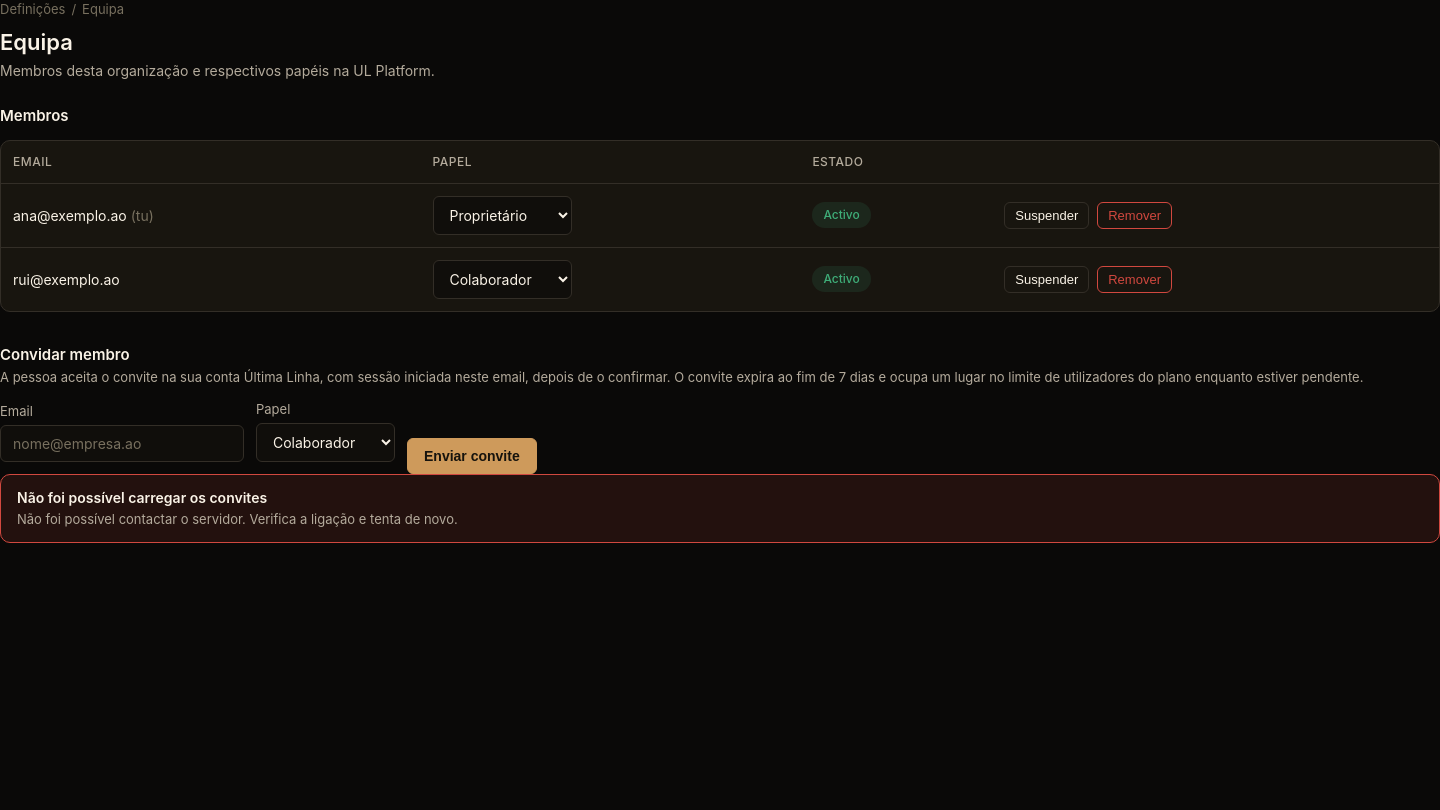
Team › the Platform's last-owner protection is shown inside the dialog
The image size is (1440, 810).
Expected: the text "ana@exemplo.ao" is shown, [13,207,127,224]
What coordinates should you click on to do the following:
click the button "Remover" in the row of "ana@exemplo.ao"
I would click on:
 (1135, 215)
Its box is [1097,202,1172,229].
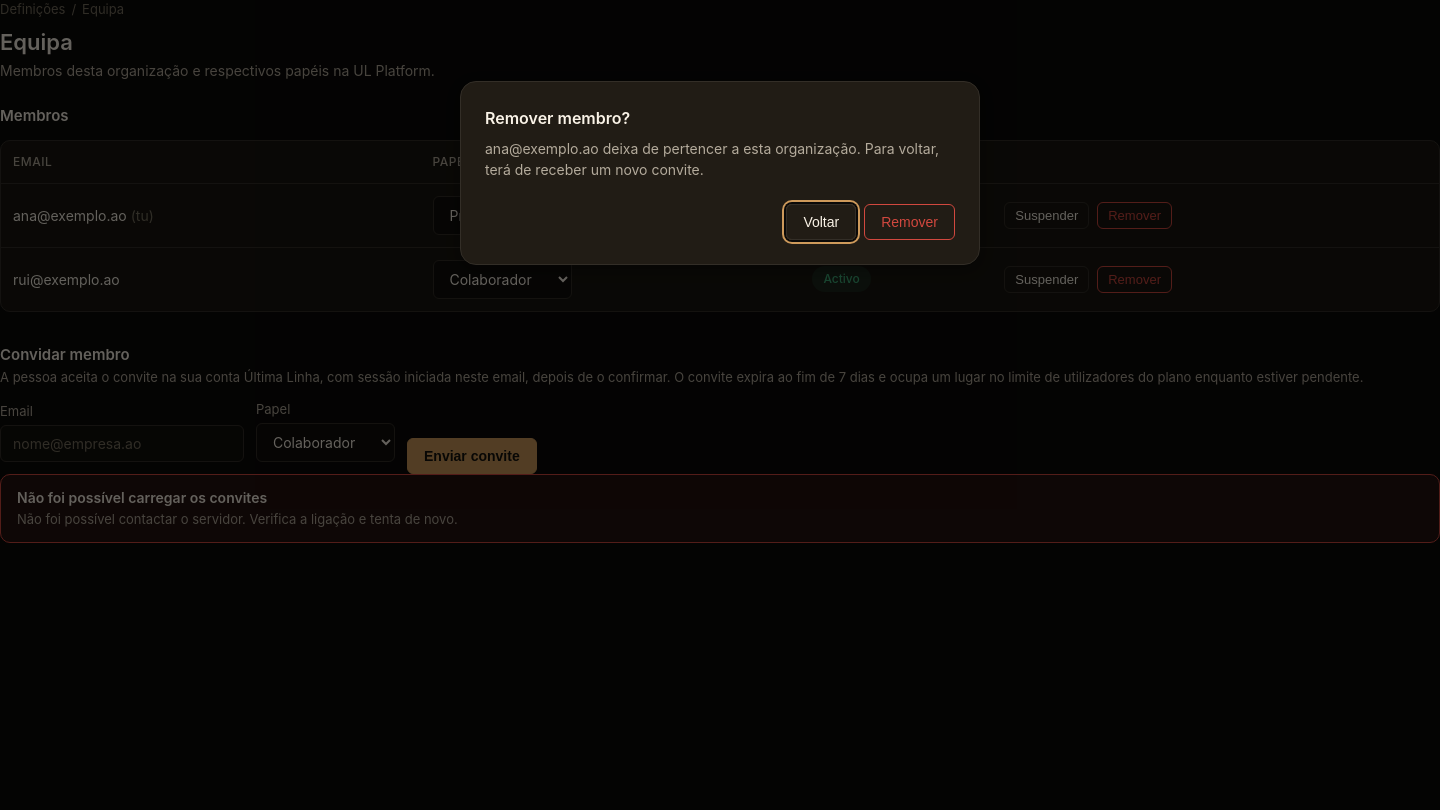
What coordinates should you click on to do the following:
click the button "Remover"
I would click on:
 (910, 222)
Its box is [864,204,955,240].
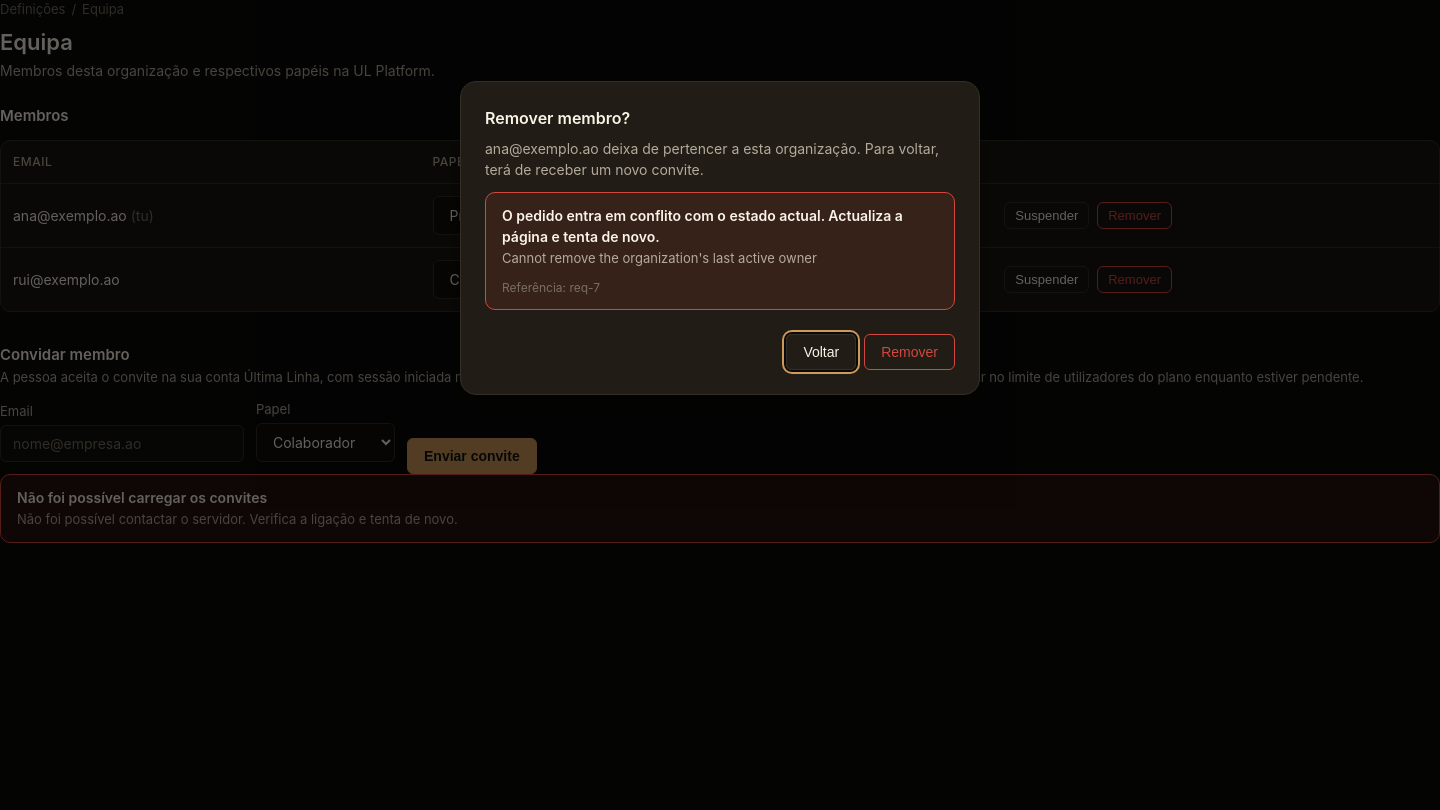
Expected: the text "ana@exemplo.ao" is shown, [13,207,127,224]
Now the text "Cannot remove the organization's last active owner" is shown, box [502,250,817,266]
